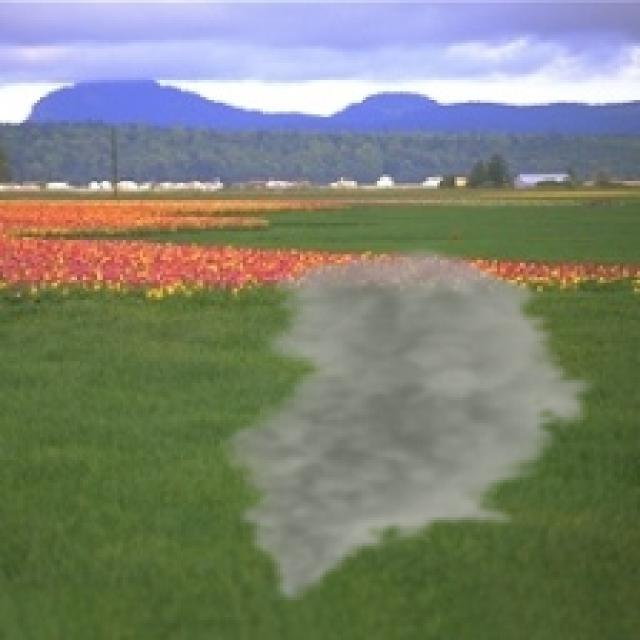Smoke: (211, 243, 603, 606)
